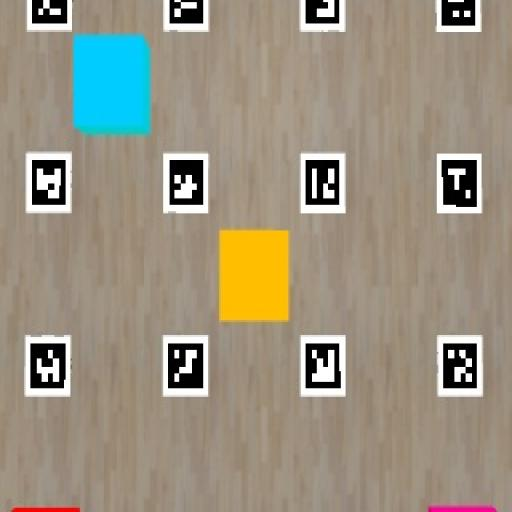car: (72, 35, 150, 136), (428, 504, 497, 511)
fire: (220, 231, 289, 322), (12, 506, 79, 511)
